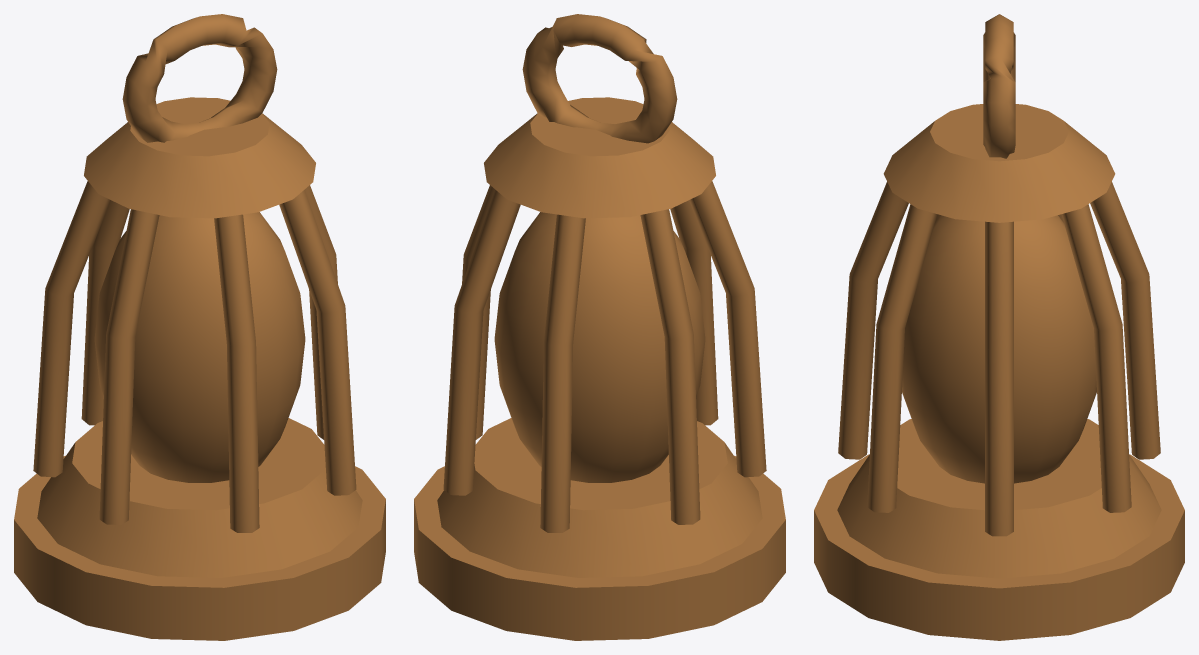
File: SM_Menu_ForegroundLantern.fbx
The picture shows the model from 3 angles, left to right: view 1: azimuth 30°, elevation 25°; view 2: azimuth 150°, elevation 25°; view 3: azimuth 270°, elevation 25°; orthographic projection.
Parts seen in each view (by area): view 1: SM_Menu_ForegroundLantern; view 2: SM_Menu_ForegroundLantern; view 3: SM_Menu_ForegroundLantern.
Boxes of the visible parts, box(x1,y1,x2,y2) form: SM_Menu_ForegroundLantern: box(14, 14, 385, 640); SM_Menu_ForegroundLantern: box(414, 14, 785, 640); SM_Menu_ForegroundLantern: box(814, 14, 1184, 640).
Bounding box in the file's own units: 28.8 × 28.8 × 46.26.
